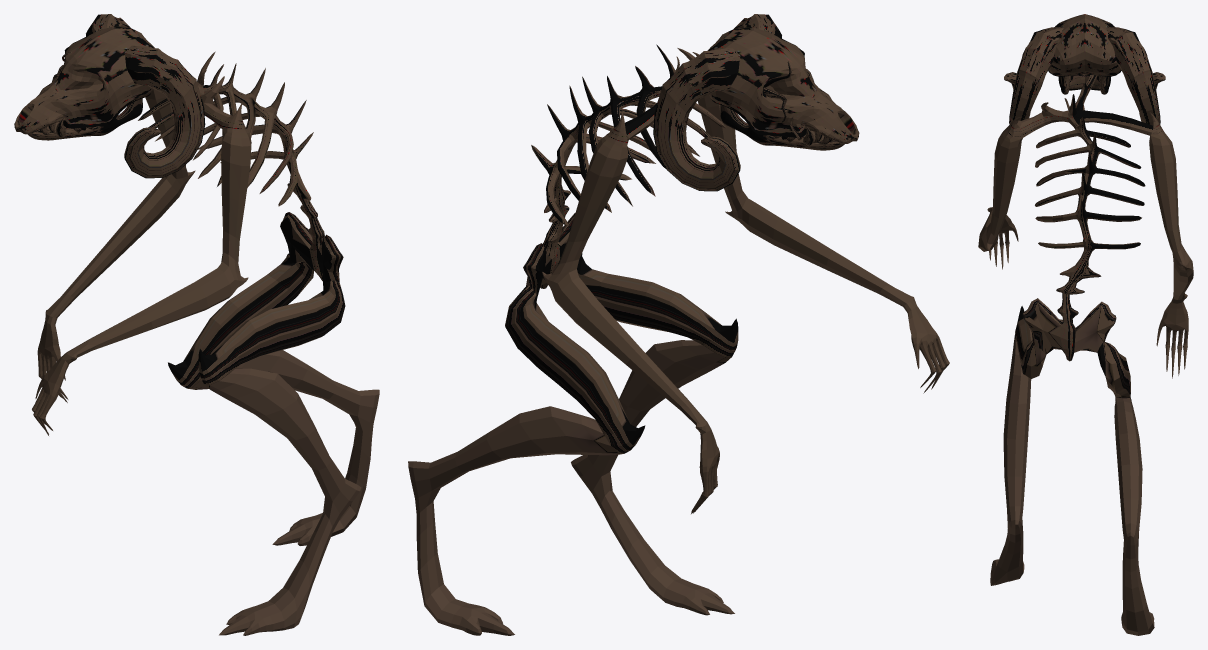
Rendered from enemigo_prov.obj.
The picture shows the model from 3 angles, left to right: view 1: azimuth 30°, elevation 25°; view 2: azimuth 150°, elevation 25°; view 3: azimuth 270°, elevation 25°; orthographic projection. The views are drawn at different scales.
Parts seen in each view (by area): view 1: Cube.020_Cube.004, Cube.024, Cube.021, Cube.022; view 2: Cube.020_Cube.004, Cube.024, Cube.021, Cube.022; view 3: Cube.020_Cube.004, Cube.021, Cube.024, Cube.022.
Boxes of the visible parts, left/top/right/bottom form: Cube.020_Cube.004: left=32, top=51, right=379, bottom=635; Cube.024: left=14, top=26, right=154, bottom=134; Cube.021: left=57, top=14, right=205, bottom=178; Cube.022: left=27, top=98, right=142, bottom=140; Cube.020_Cube.004: left=408, top=44, right=949, bottom=635; Cube.024: left=707, top=27, right=859, bottom=143; Cube.021: left=653, top=14, right=814, bottom=191; Cube.022: left=720, top=105, right=845, bottom=150; Cube.020_Cube.004: left=978, top=75, right=1193, bottom=635; Cube.021: left=1004, top=27, right=1165, bottom=125; Cube.024: left=1048, top=14, right=1121, bottom=76; Cube.022: left=1058, top=74, right=1110, bottom=94.
Size of the model in its own units: 2.78 by 3.73 by 1.41.
Materials: 1 (1 with a texture image).
